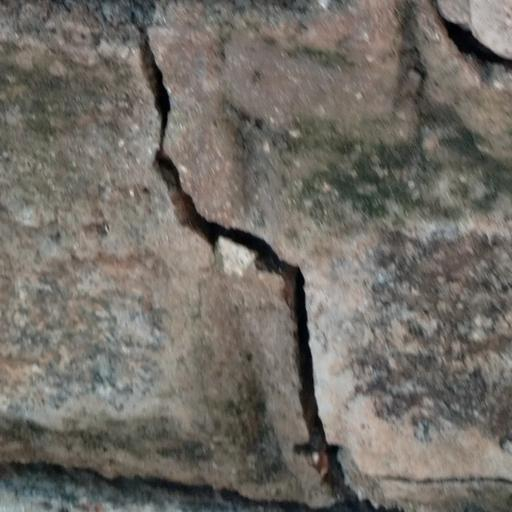major_crack: (118, 3, 397, 512)
